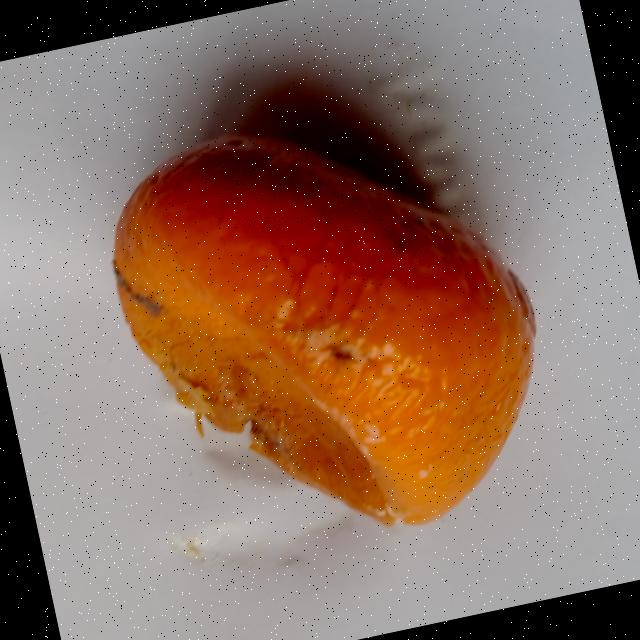Rotten: (88, 78, 574, 579)
